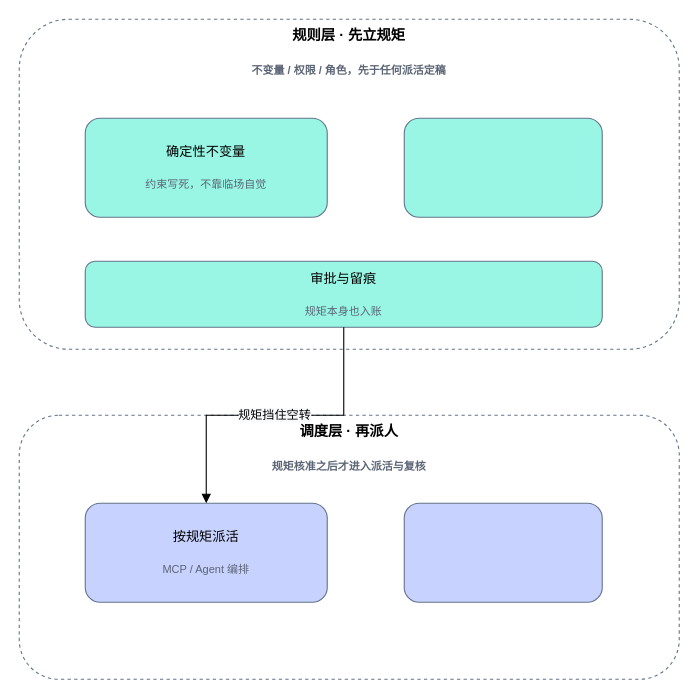
Image size: 699x699. Some labels were removed from this diagram. The shapes that lost their labels are listed below. From the top down, each one's box as (x1, y1, x2, y2) in pixels, then its label:
(403, 117, 602, 217): 授权与角色表 谁能做什么，先列清
(403, 502, 602, 602): 三权并行复核 报告≠修复≠验证
